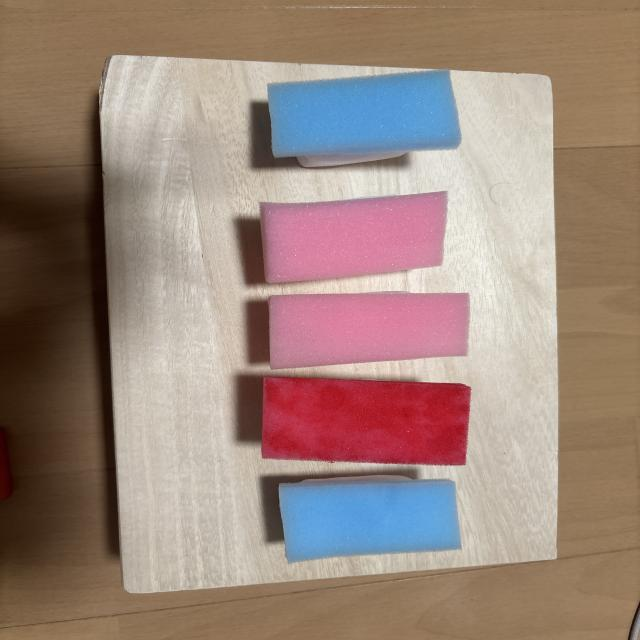ika: (268, 70, 461, 167), (279, 475, 461, 563)
maguro: (262, 377, 471, 465)
tai: (261, 192, 447, 283), (269, 293, 470, 369)
